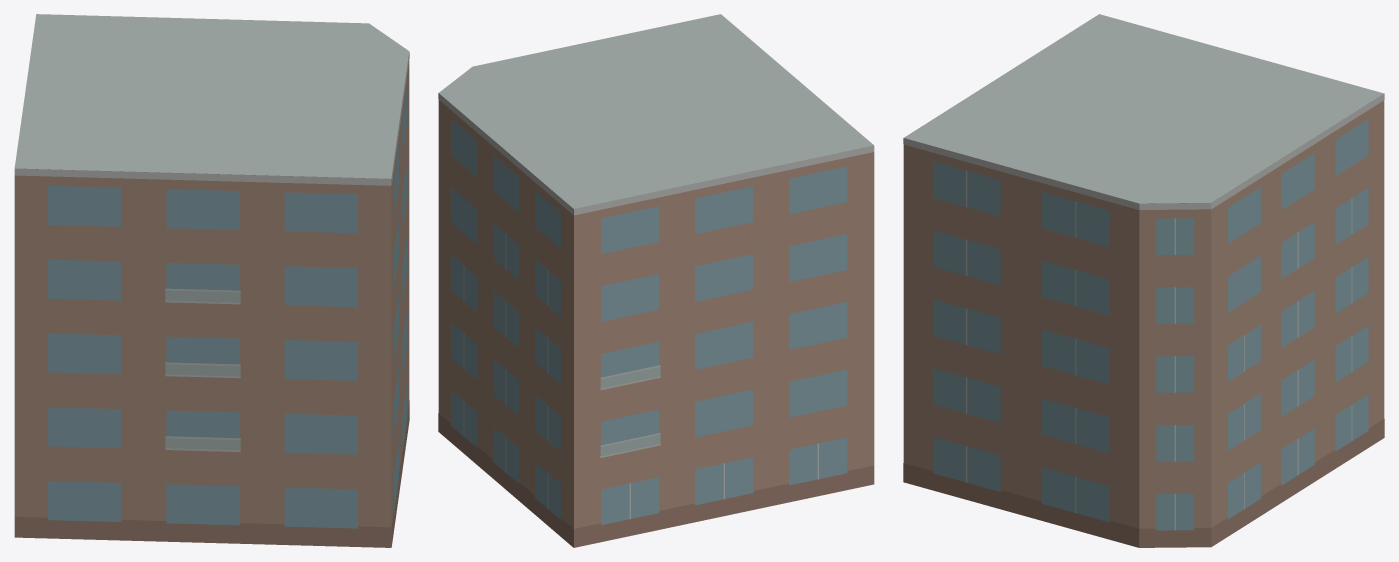
File: survey-upis-32774924.glb
3 views of the same model, side by side, from view 1: azimuth 30°, elevation 25°; view 2: azimuth 150°, elevation 25°; view 3: azimuth 270°, elevation 25° (orthographic). The views are drawn at different scales.
Parts seen in each view (by area): view 1: survey-upis-32774924.tmp; view 2: survey-upis-32774924.tmp; view 3: survey-upis-32774924.tmp.
Boxes of the visible parts, x1,y1,x2,y2 form: survey-upis-32774924.tmp: (14, 14, 409, 547); survey-upis-32774924.tmp: (438, 14, 874, 547); survey-upis-32774924.tmp: (903, 14, 1384, 547).
Size of the model in its own units: 15.13 by 12.81 by 16.22.
